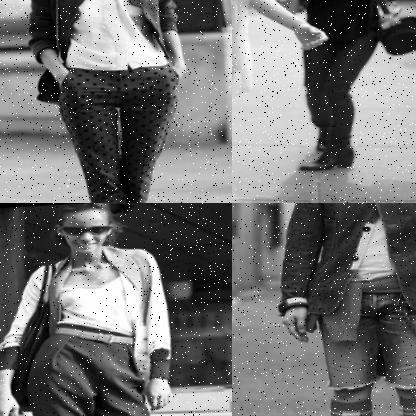jacket: (0, 241, 174, 388), (271, 203, 416, 320), (24, 0, 181, 68)
pants: (54, 59, 187, 203), (20, 316, 157, 416)
short: (312, 284, 416, 395)
